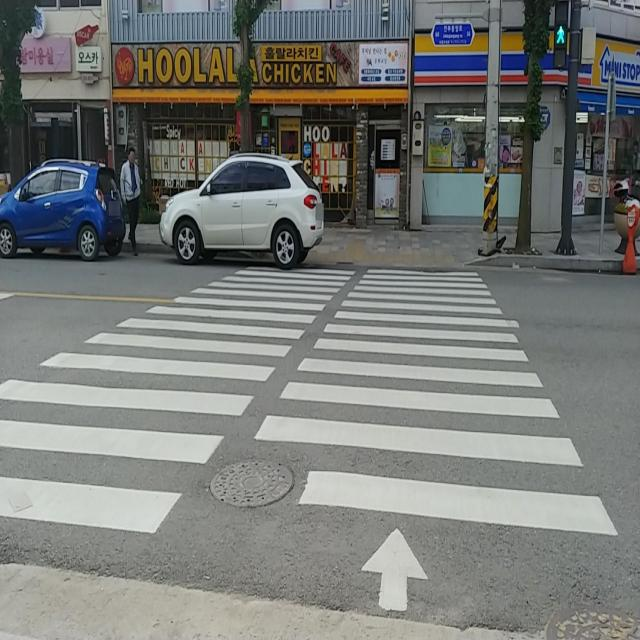횡단보도: (0, 266, 619, 613)
